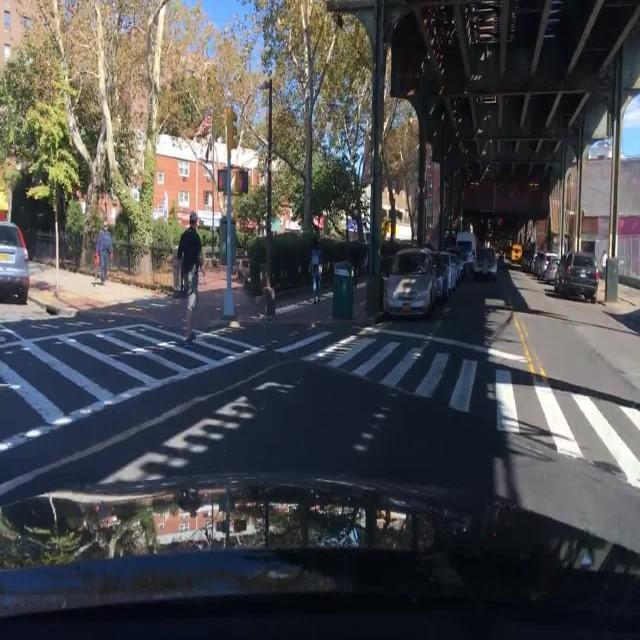normal: (372, 220, 630, 342)
